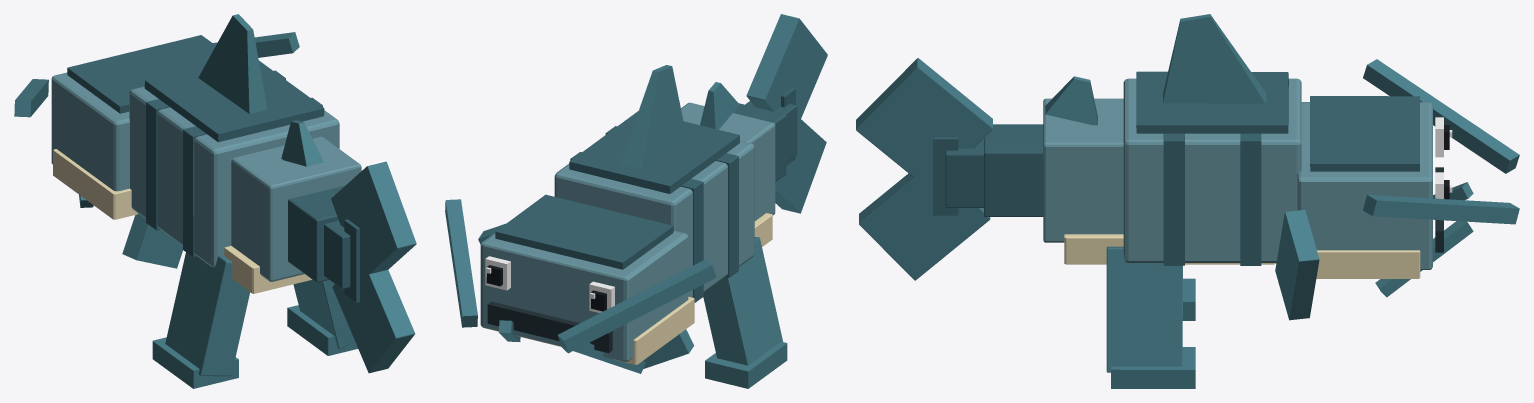
Rendered from catfish.glb.
The picture shows the model from 3 angles, left to right: view 1: azimuth 30°, elevation 25°; view 2: azimuth 150°, elevation 25°; view 3: azimuth 270°, elevation 25°; orthographic projection. The views are drawn at different scales.
Parts seen in each view (by area): view 1: body, head, fin.tail, fin.R; view 2: body, head, fin.tail, fin.R; view 3: body, head, fin.tail, fin.L.
Part boxes in pixels (bbox=[...]): body: bbox=[129, 14, 361, 388]; head: bbox=[14, 32, 299, 219]; fin.tail: bbox=[324, 161, 416, 373]; fin.R: bbox=[122, 213, 182, 268]; body: bbox=[554, 65, 787, 388]; head: bbox=[445, 194, 716, 373]; fin.tail: bbox=[745, 14, 827, 213]; fin.R: bbox=[643, 329, 694, 368]; body: bbox=[984, 14, 1301, 388]; head: bbox=[1297, 59, 1519, 297]; fin.tail: bbox=[856, 58, 992, 280]; fin.L: bbox=[1275, 209, 1319, 320].
Bounding box in the file's own units: 0.9415 × 1 × 1.83.
